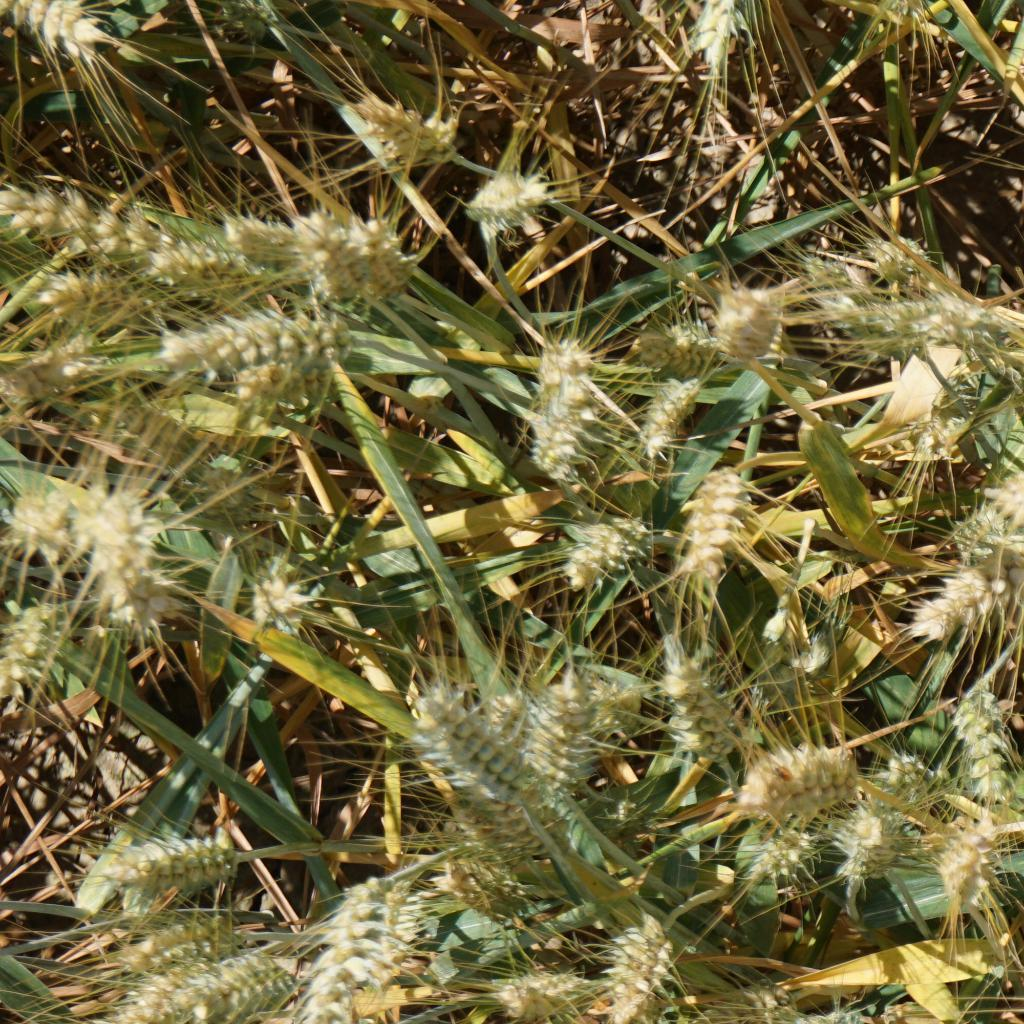0-0: (751, 574, 858, 728), (303, 870, 409, 1018), (98, 815, 261, 910), (389, 655, 510, 776), (668, 449, 763, 592), (900, 348, 1005, 477), (824, 749, 920, 884), (73, 956, 281, 1018), (153, 307, 345, 367), (728, 733, 857, 820), (79, 487, 160, 624), (520, 659, 595, 799), (799, 247, 903, 344), (643, 643, 736, 748), (0, 181, 136, 251), (603, 911, 688, 1019), (945, 682, 1019, 804), (905, 551, 1001, 643), (113, 401, 215, 487), (907, 292, 1024, 361), (3, 335, 110, 410), (0, 487, 92, 568), (0, 603, 72, 704), (341, 93, 449, 160), (241, 554, 324, 641), (0, 0, 129, 55), (444, 850, 533, 924), (520, 385, 588, 480), (917, 820, 995, 901), (490, 952, 590, 1014), (294, 208, 367, 292), (945, 500, 1024, 577), (192, 461, 260, 546), (352, 223, 433, 294), (561, 513, 652, 576), (105, 915, 230, 960), (35, 259, 129, 318), (705, 280, 779, 351), (627, 387, 708, 449), (680, 0, 743, 79), (216, 208, 294, 268), (462, 170, 548, 224), (585, 676, 648, 749), (627, 318, 709, 371), (228, 354, 295, 416), (139, 231, 228, 277), (984, 466, 1024, 564), (867, 228, 940, 277), (742, 830, 804, 887), (519, 339, 587, 389), (865, 0, 934, 30), (786, 1002, 868, 1024)
